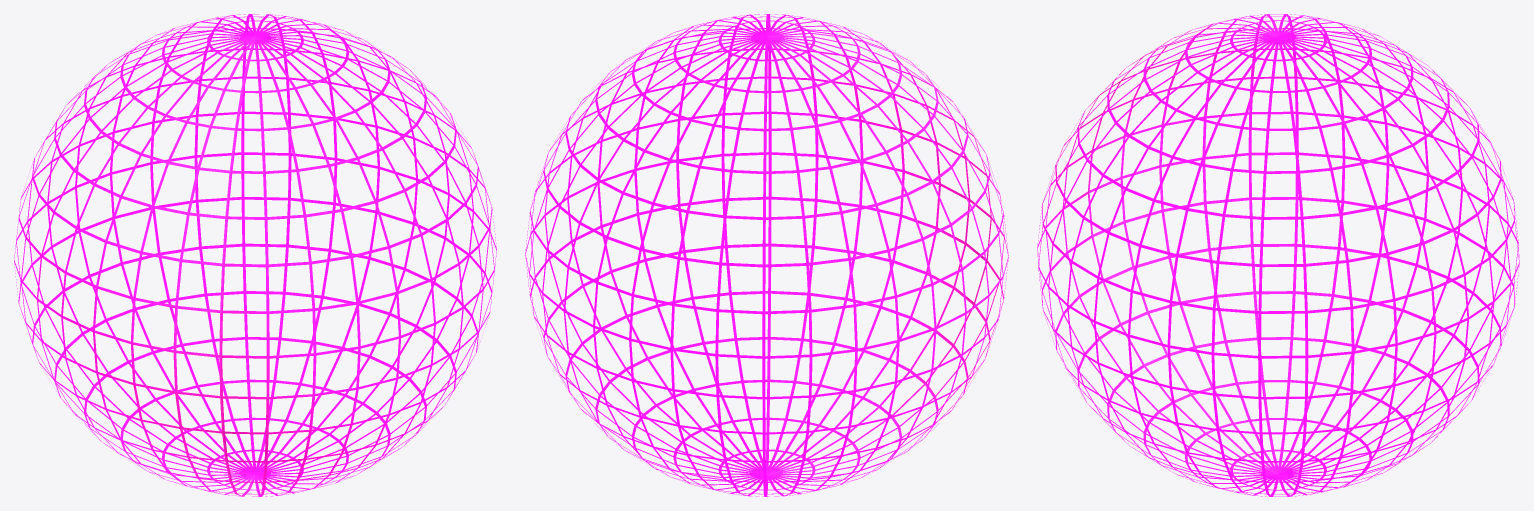
The model's file is bein_globe.glb.
3 views of the same model, side by side, from view 1: azimuth 30°, elevation 25°; view 2: azimuth 150°, elevation 25°; view 3: azimuth 270°, elevation 25° (orthographic).
Parts seen in each view (by area): view 1: Sphere.001_Base Mat_0; view 2: Sphere.001_Base Mat_0; view 3: Sphere.001_Base Mat_0.
Part boxes in pixels (<box>): Sphere.001_Base Mat_0: <box>14,14,496,496</box>; Sphere.001_Base Mat_0: <box>525,14,1008,496</box>; Sphere.001_Base Mat_0: <box>1037,14,1519,496</box>.
Size of the model in its own units: 2.22 by 2.23 by 2.22.
Materials: 1 (1 with a texture image).
